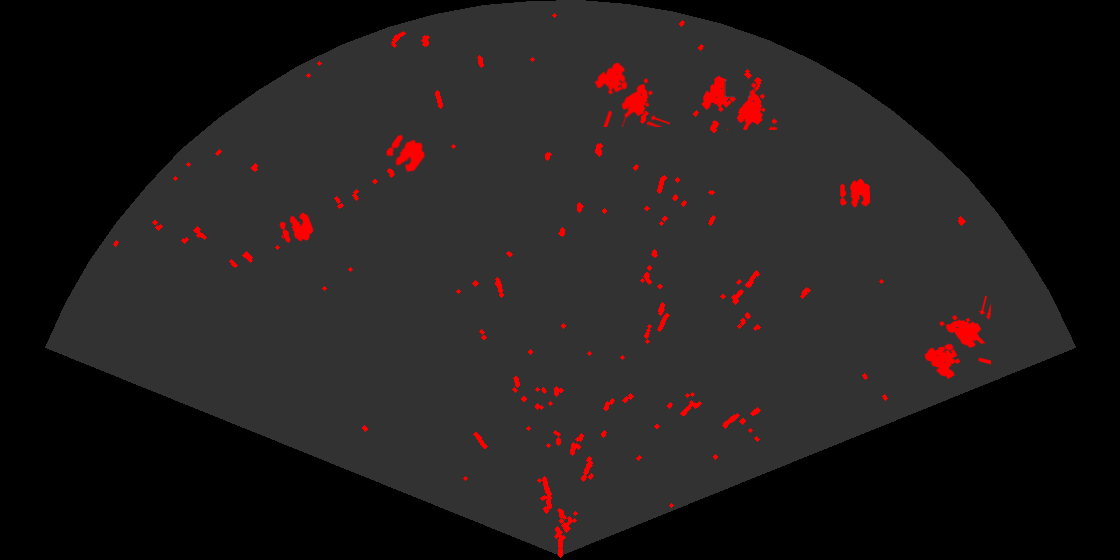ball: (384, 133, 426, 174), (278, 211, 315, 245), (839, 177, 872, 209)
cage: (923, 296, 991, 381), (593, 61, 670, 127), (700, 74, 777, 130)
